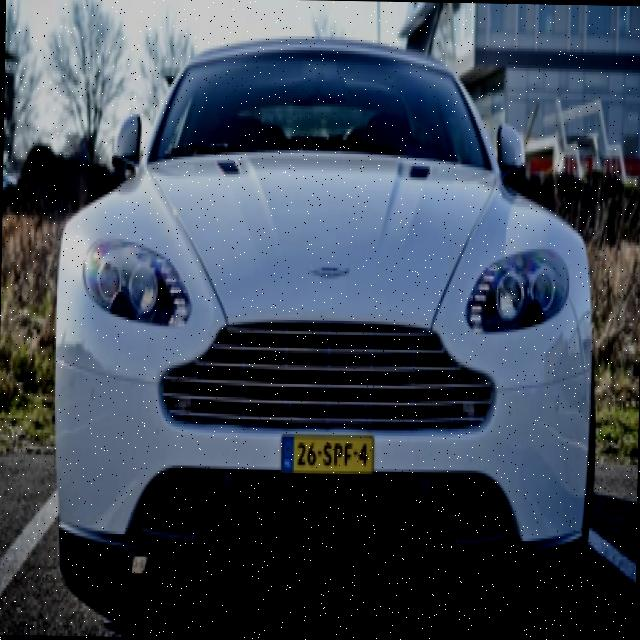Autre: (275, 429, 377, 482)
